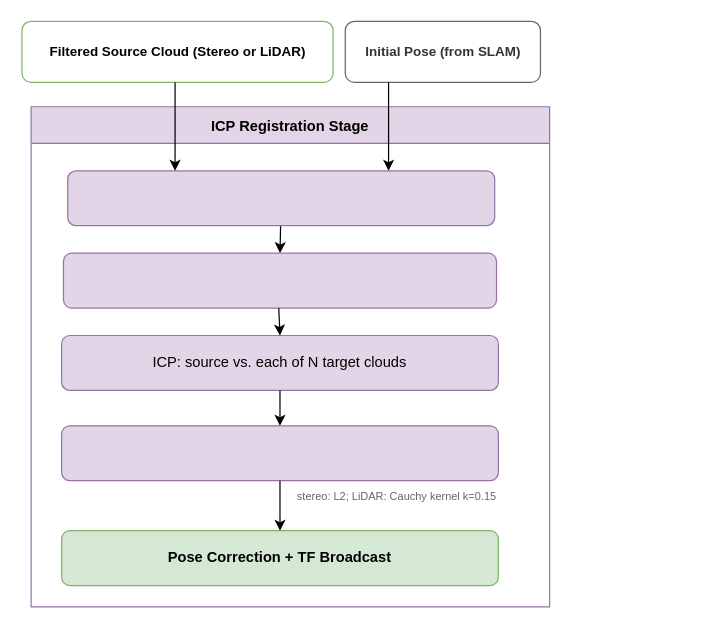
Some shapes in this 710 by 628 pixel diagram are drawn without their labels. The shapes that lost their labels are listed below. From the top down, each one's centre as x and y in pixels, then its label:
At (x=280, y=198): "Candidate Viewpoint Sampling".
At (x=279, y=280): "Voxel Downsampling — source & each target".
At (x=279, y=453): "Select Best: highest fitness + lowest RMSE".
